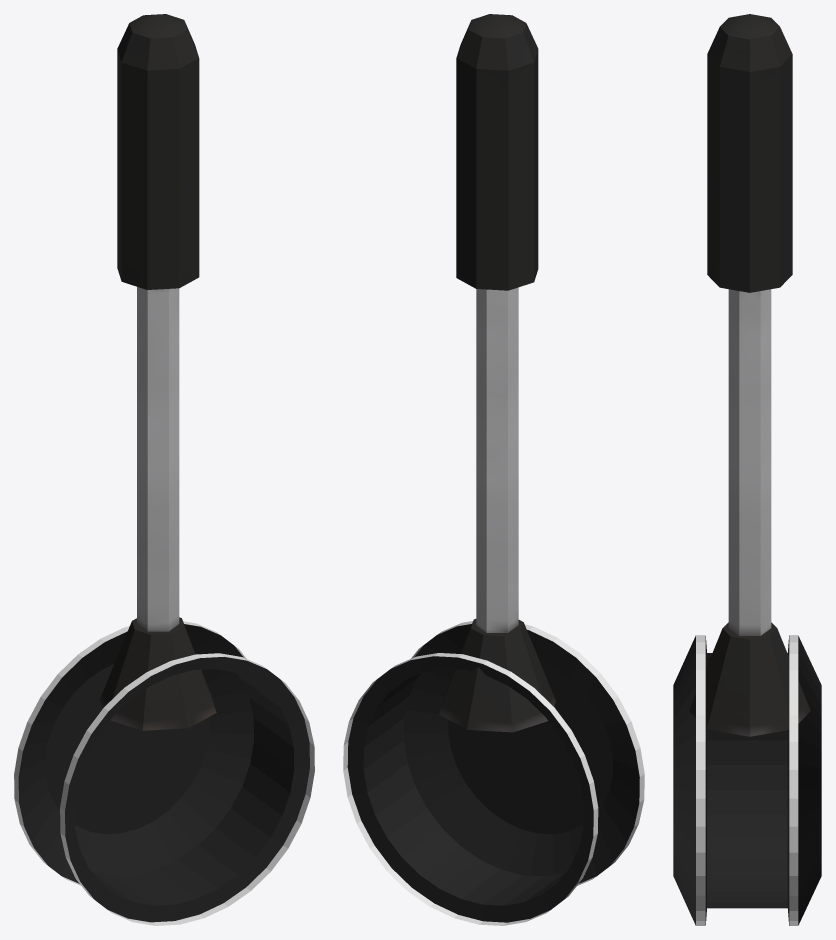
The model's file is StandaloneGeneratorLever.fbx.
3 views of the same model, side by side, from view 1: azimuth 30°, elevation 25°; view 2: azimuth 150°, elevation 25°; view 3: azimuth 270°, elevation 25° (orthographic).
Parts seen in each view (by area): view 1: Hub, Handle; view 2: Hub, Handle; view 3: Handle, Hub.
Part boxes in pixels (left/top/right/bottom): Hub: left=14, top=621, right=314, bottom=925; Handle: left=100, top=14, right=216, bottom=730; Hub: left=343, top=621, right=644, bottom=925; Handle: left=439, top=14, right=555, bottom=732; Handle: left=689, top=14, right=810, bottom=736; Hub: left=673, top=635, right=821, bottom=925.
Bounding box in the file's own units: 0.1269 × 0.431 × 0.0647.
